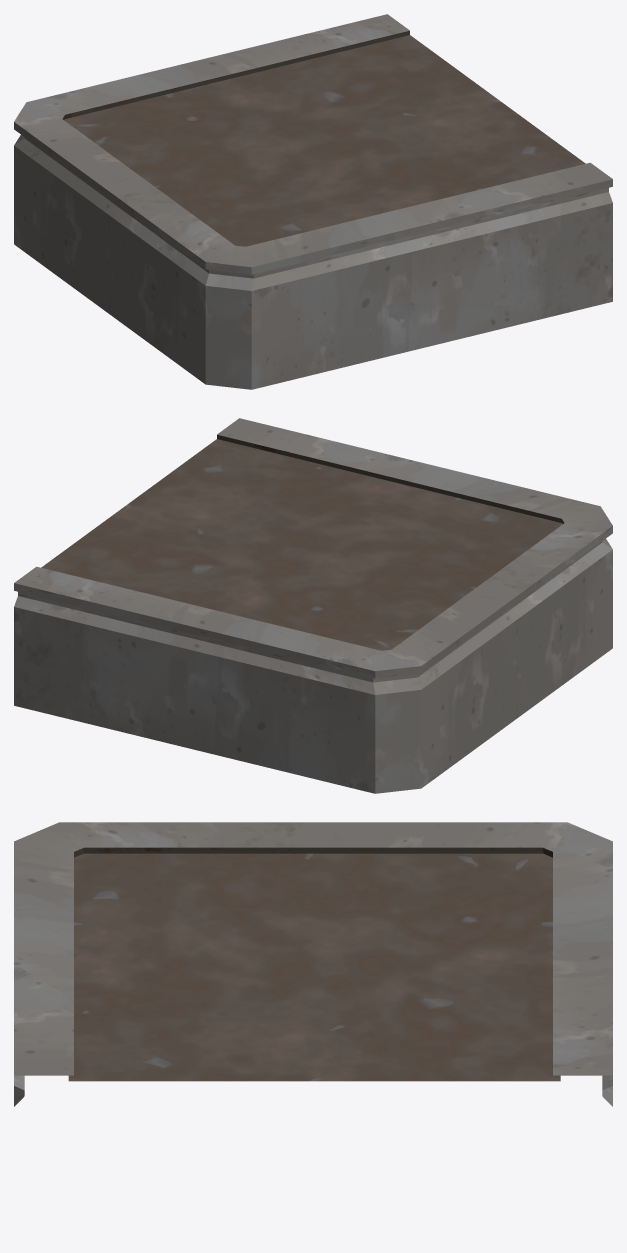
The model's file is Prop_Planter_Side_L.gltf.
3 views of the same model, one above another, from view 1: azimuth 30°, elevation 25°; view 2: azimuth 150°, elevation 25°; view 3: azimuth 270°, elevation 25° (orthographic). The views are drawn at different scales.
Visible parts, largest first — view 1: Prop_Planter_Side_L; view 2: Prop_Planter_Side_L; view 3: Prop_Planter_Side_L.
Part boxes in pixels (left/top/right/bottom): Prop_Planter_Side_L: left=14, top=14, right=612, bottom=389; Prop_Planter_Side_L: left=14, top=418, right=612, bottom=793; Prop_Planter_Side_L: left=14, top=822, right=612, bottom=1106.
Size of the model in its own units: 2 by 0.6 by 2.
2 materials, 2 textured.
